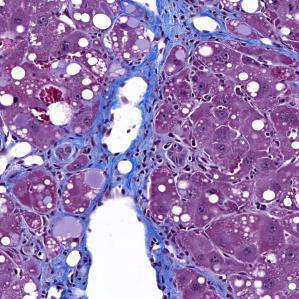fibrosis: (89, 59, 170, 189), (136, 0, 242, 60), (19, 218, 88, 299), (140, 207, 202, 295)
